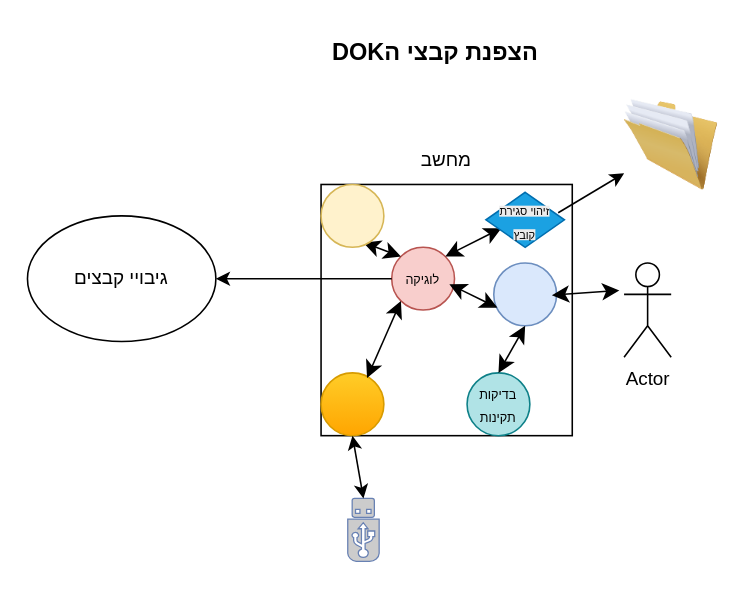
The diagram is 746 pixels wide and 589 high, and some of its shapes have lost their labels. The shapes that lost their labels are listed below. From the top down, each one's centre as x and y in pixels, then its label:
pixel 351 215: הצפנה\פענוח
pixel 524 293: ממשק משתמש
pixel 351 403: USB
